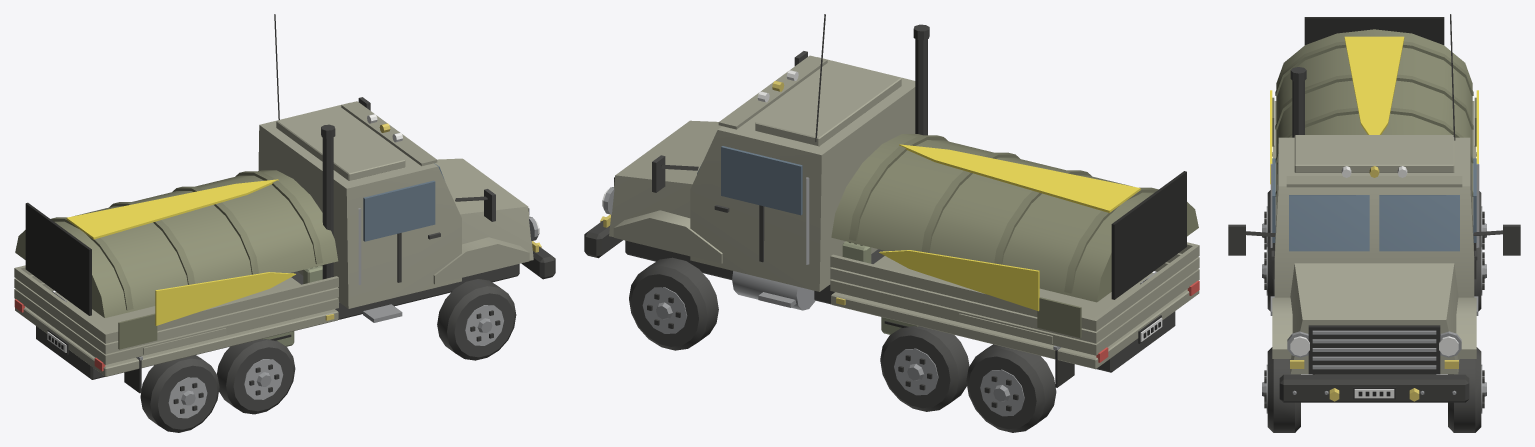
Rendered from truck.glb.
3 renders of one model, left to right at view 1: azimuth 30°, elevation 25°; view 2: azimuth 150°, elevation 25°; view 3: azimuth 270°, elevation 25°, orthographic. The views are drawn at different scales.
Parts seen in each view (by area): view 1: hull; view 2: hull; view 3: hull.
Boxes of the visible parts, box(x1,y1,x2,y2) form: hull: box(14, 14, 555, 432); hull: box(584, 14, 1199, 432); hull: box(1228, 14, 1520, 432).
Size of the model in its own units: 7.37 by 4.79 by 3.66.
